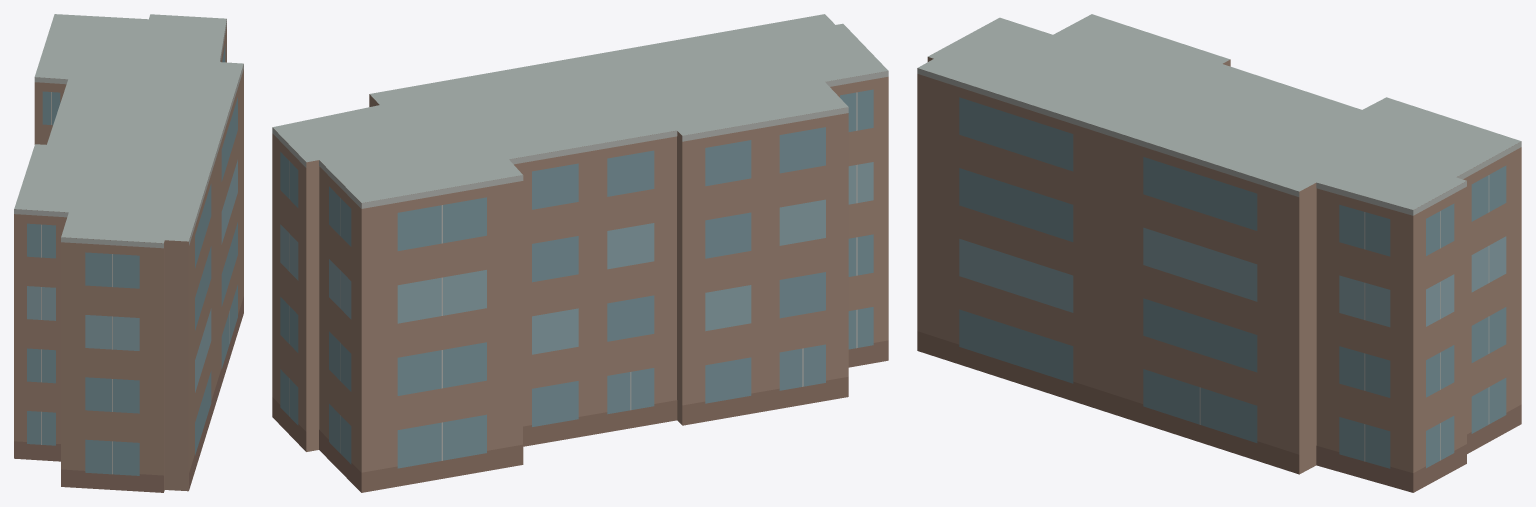
The model's file is survey-upis-32655804.glb.
The picture shows the model from 3 angles, left to right: view 1: azimuth 30°, elevation 25°; view 2: azimuth 150°, elevation 25°; view 3: azimuth 270°, elevation 25°; orthographic projection. The views are drawn at different scales.
Parts seen in each view (by area): view 1: survey-upis-32655804.tmp; view 2: survey-upis-32655804.tmp; view 3: survey-upis-32655804.tmp.
Boxes of the visible parts, x1,y1,x2,y2 form: survey-upis-32655804.tmp: (14,14,243,492); survey-upis-32655804.tmp: (272,14,888,492); survey-upis-32655804.tmp: (917,14,1521,492).
Size of the model in its own units: 17.85 by 12 by 23.24.
